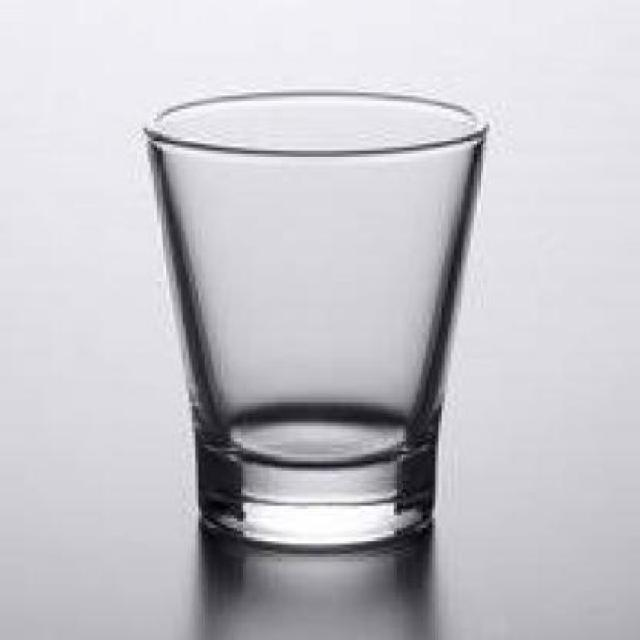kaca: (142, 86, 483, 545)
